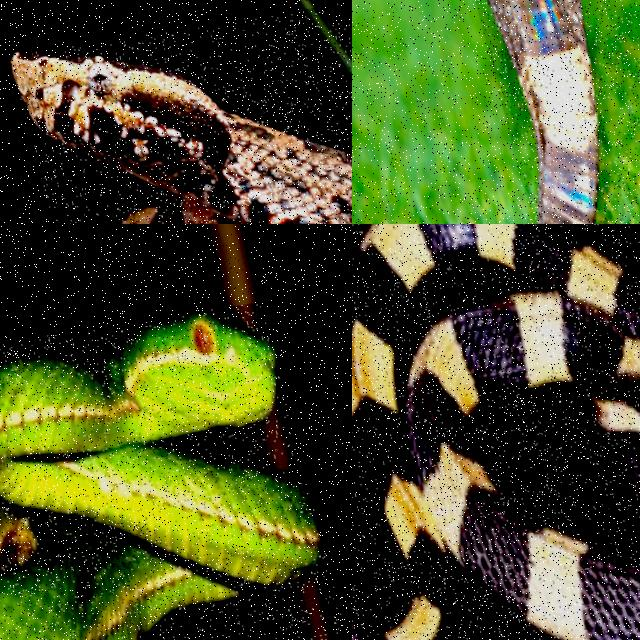Bungarus fasciatus: (352, 224, 639, 639)
Naja kaouthia: (488, 0, 598, 223)
Ovophis monticola: (12, 54, 351, 223)
Trimeresurus: (0, 313, 318, 639)
